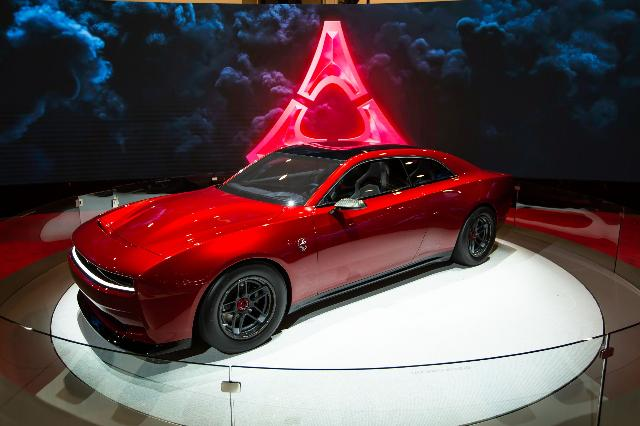dodge: (66, 138, 518, 358)
